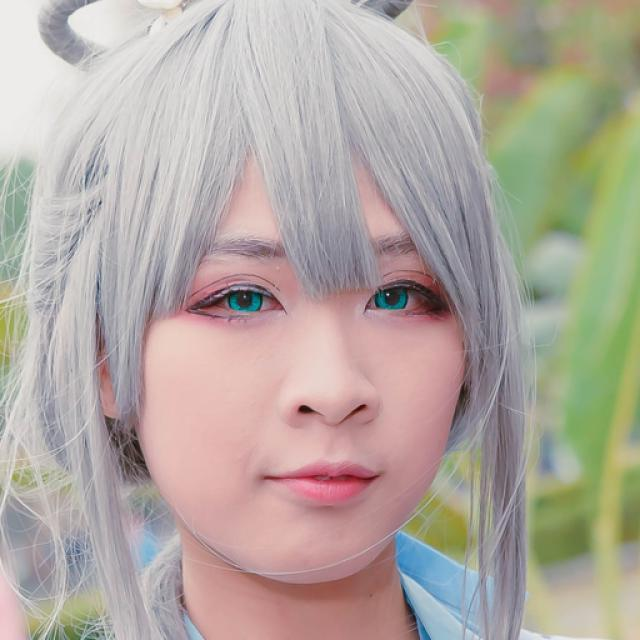neutral: (131, 113, 474, 572)
